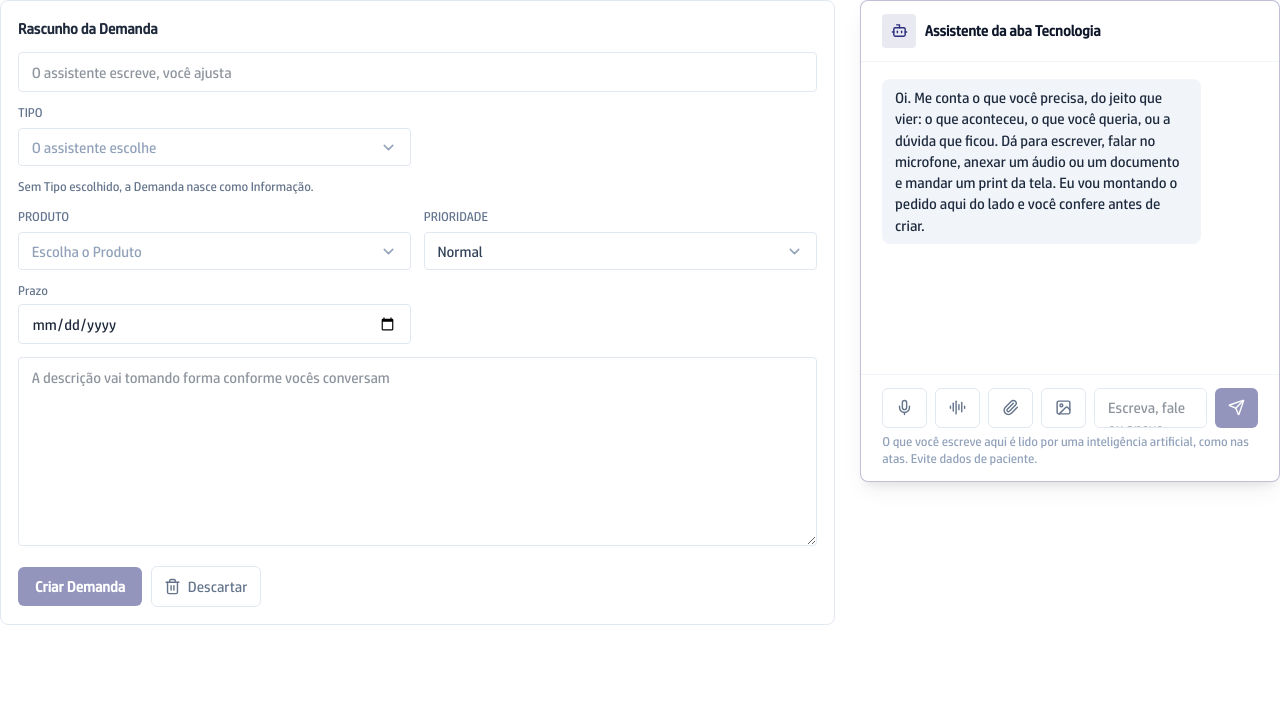
Test: A conversa › a resposta do chat atualiza o rascunho
The image size is (1280, 720).
Type "a Ana tá estranha" into the text box named "Mensagem" at x=1151, y=408, box [1094, 388, 1207, 428]
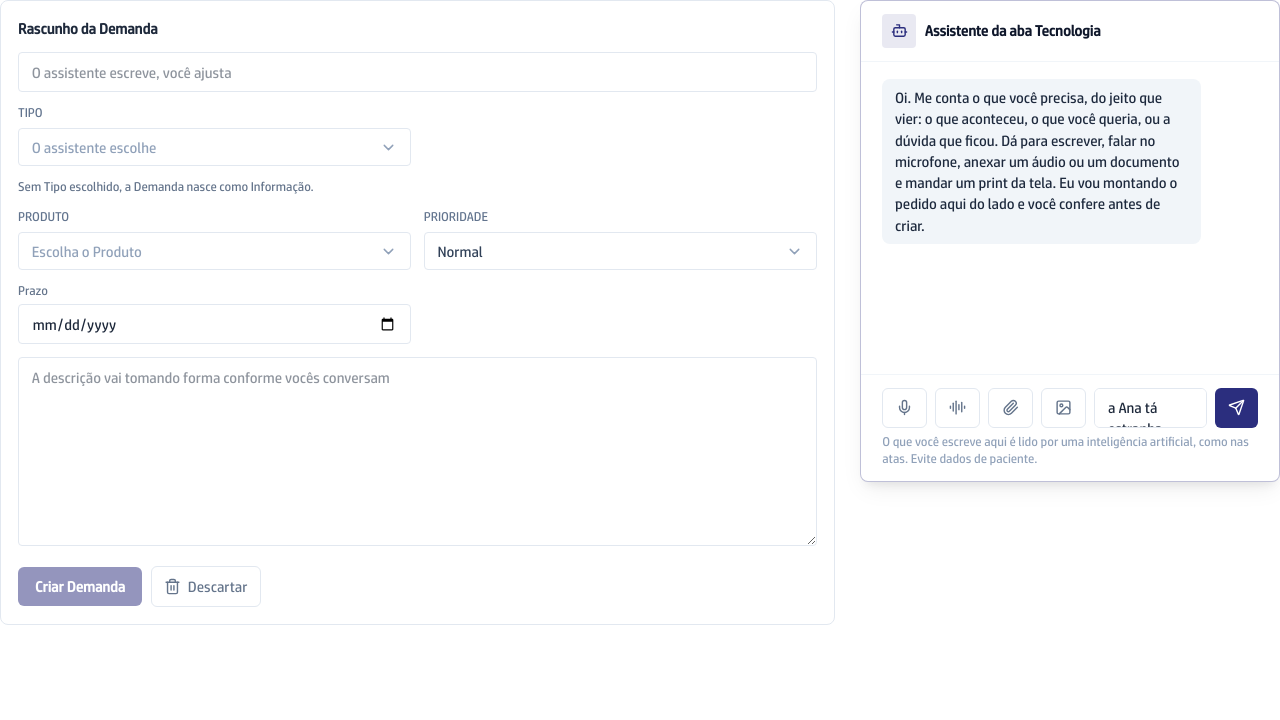
Click the button named "Enviar" at x=1237, y=408, box [1215, 388, 1258, 428]
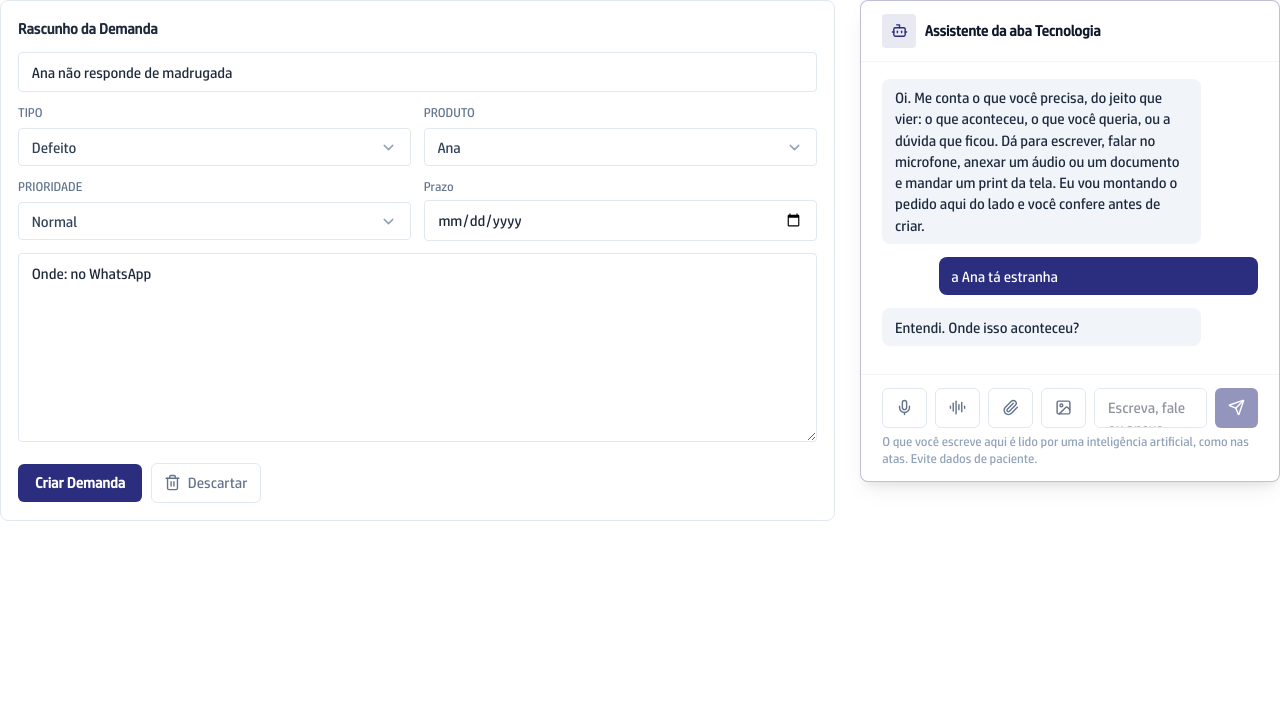
Expected: the field named "Título" holds "Ana não responde de madrugada", [18, 52, 816, 92]
Expected: the text box named "descrição" holds "Onde: no WhatsApp", [18, 253, 816, 442]
Expected: the text "Entendi. Onde isso aconteceu?" is shown, [882, 308, 1202, 346]
